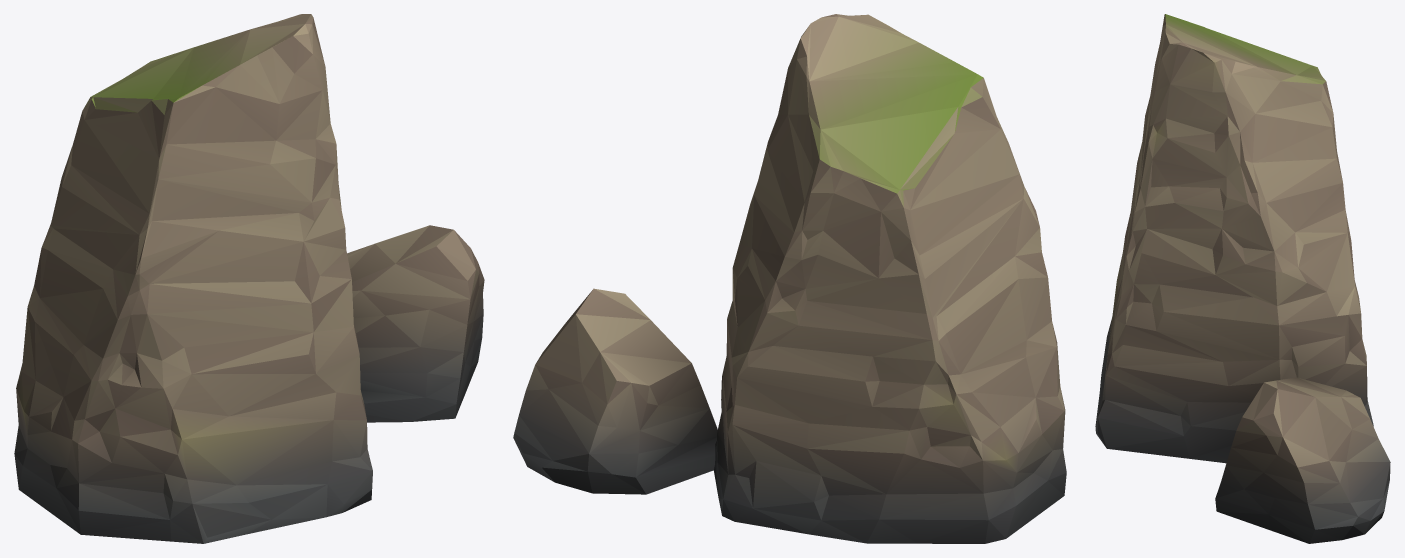
File: Rock_C.glb
3 views of the same model, side by side, from view 1: azimuth 30°, elevation 25°; view 2: azimuth 150°, elevation 25°; view 3: azimuth 270°, elevation 25° (orthographic). The views are drawn at different scales.
Parts seen in each view (by area): view 1: Rock_C; view 2: Rock_C; view 3: Rock_C.
Part boxes in pixels (x1,y1,x2,y2): Rock_C: (14, 14, 484, 543); Rock_C: (513, 14, 1066, 543); Rock_C: (1095, 14, 1390, 543).
Bounding box in the file's own units: 2.2 × 1.95 × 1.31.
